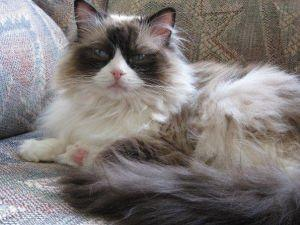ragdoll: (49, 1, 190, 112)
